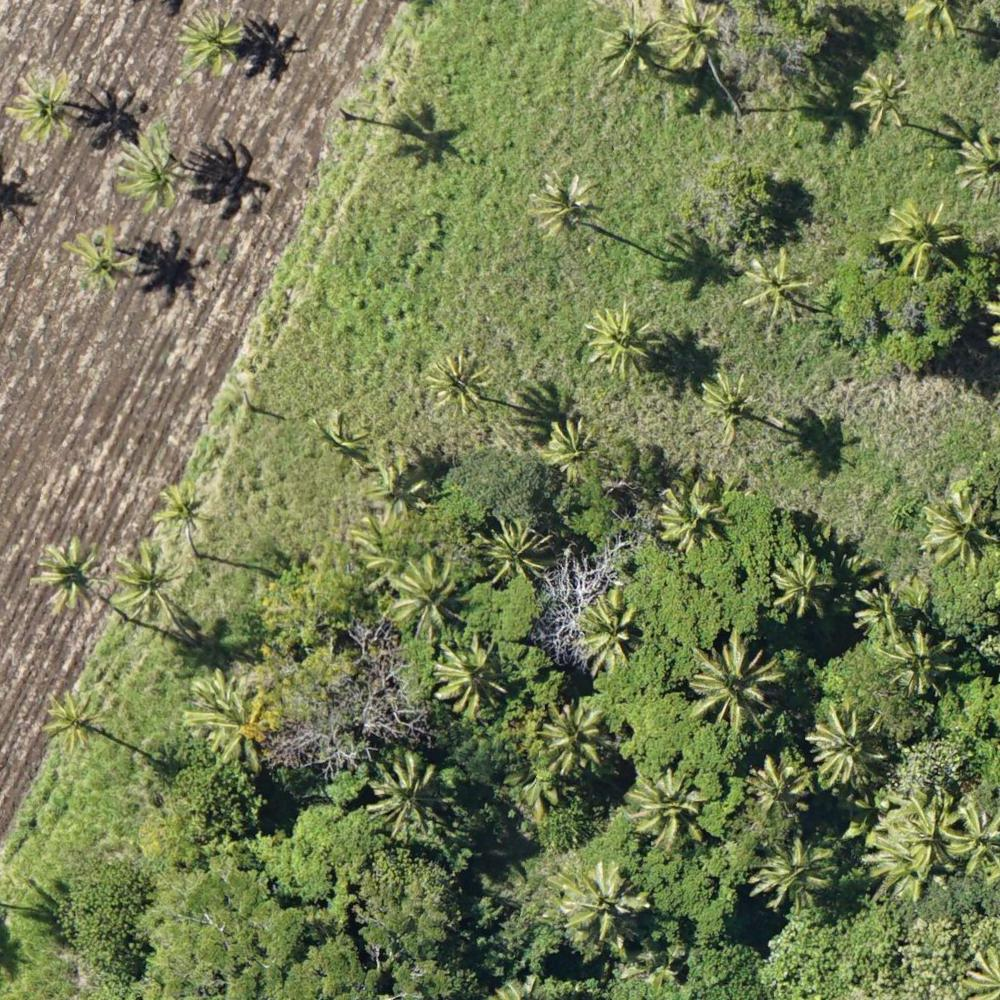Palm: (688, 633, 782, 733), (919, 482, 1000, 575), (558, 861, 647, 944), (631, 766, 713, 847), (808, 704, 887, 788), (367, 754, 447, 835), (757, 833, 836, 912), (586, 296, 662, 378), (566, 593, 641, 675), (31, 534, 109, 610), (882, 201, 958, 278), (392, 555, 467, 633), (430, 642, 508, 716), (117, 127, 188, 208), (7, 69, 82, 144), (538, 698, 611, 773), (482, 513, 554, 588), (893, 793, 959, 873), (693, 371, 767, 442), (107, 543, 181, 613), (658, 478, 732, 547), (749, 246, 813, 321), (65, 231, 140, 294), (174, 7, 243, 75), (885, 628, 953, 696), (769, 550, 831, 624), (596, 7, 659, 79), (530, 171, 593, 241), (539, 416, 606, 480), (945, 795, 1000, 871), (664, 1, 724, 66), (748, 757, 808, 821), (307, 411, 369, 472), (363, 462, 425, 522), (431, 352, 488, 414), (852, 72, 909, 133), (47, 693, 103, 755), (153, 480, 213, 534)
